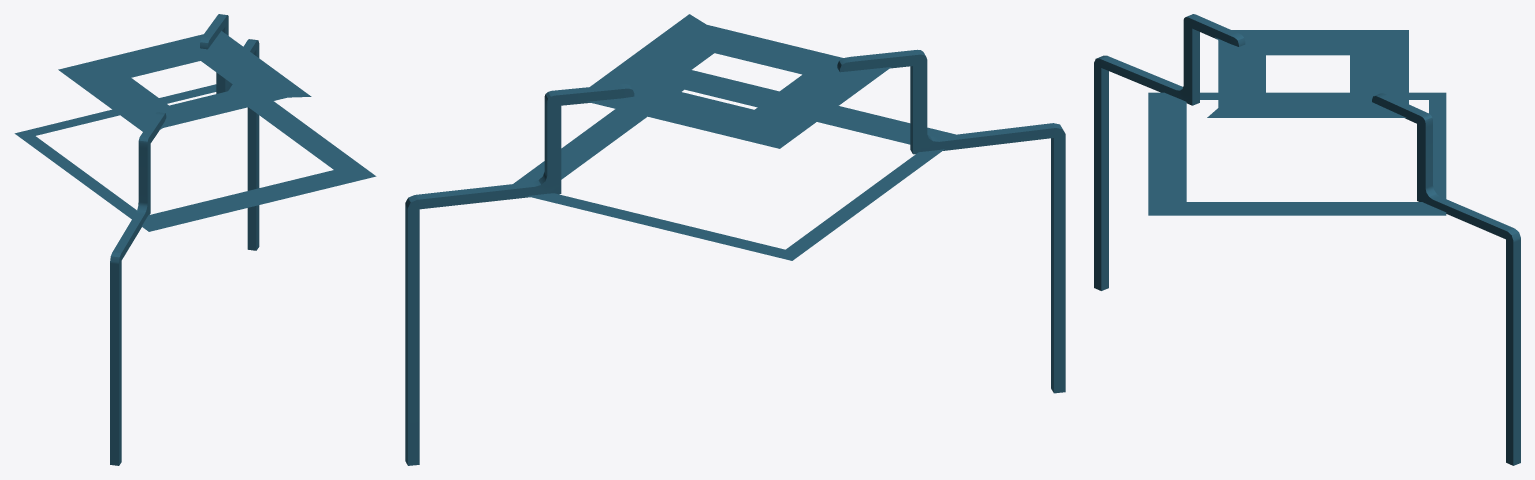
The model's file is level05_river02.fbx.
3 renders of one model, left to right at view 1: azimuth 30°, elevation 25°; view 2: azimuth 150°, elevation 25°; view 3: azimuth 270°, elevation 25°, orthographic. The views are drawn at different scales.
Parts seen in each view (by area): view 1: level05_river02; view 2: level05_river02; view 3: level05_river02.
Part boxes in pixels (x1,y1,x2,y2): level05_river02: (14,14,376,465); level05_river02: (405,14,1065,465); level05_river02: (1094,14,1520,465).
Bounding box in the file's own units: 3238 × 2583 × 3226.
